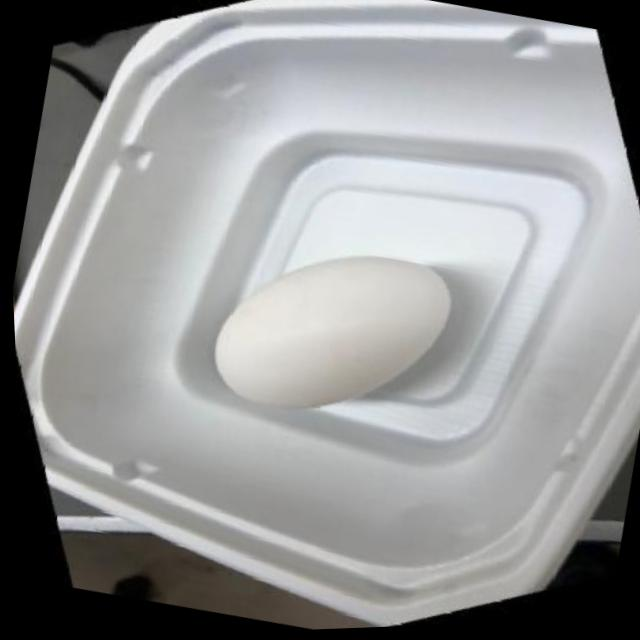egg: (192, 220, 472, 456)
